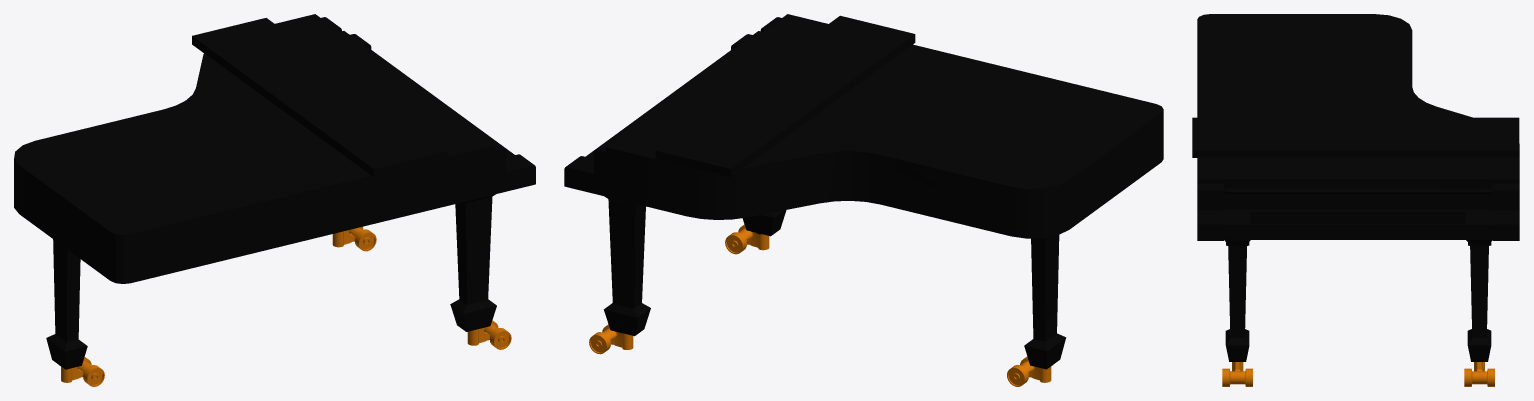
Rendered from PianoNew.fbx.
3 views of the same model, side by side, from view 1: azimuth 30°, elevation 25°; view 2: azimuth 150°, elevation 25°; view 3: azimuth 270°, elevation 25° (orthographic). The views are drawn at different scales.
Visible parts, largest first — view 1: Piano; view 2: Piano; view 3: Piano.
Boxes of the visible parts, <box> form: Piano: <box>14,14,535,386</box>; Piano: <box>564,14,1163,386</box>; Piano: <box>1192,14,1519,386</box>.
Size of the model in its own units: 17.03 by 8.9 by 12.86.
